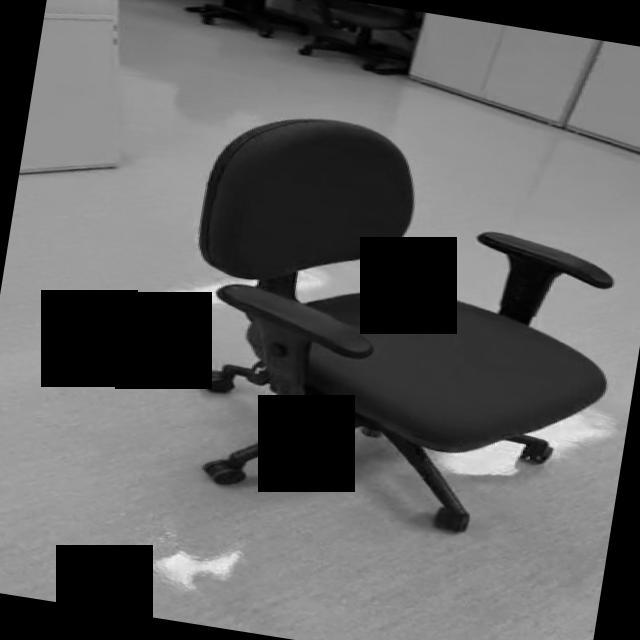chair: (158, 102, 640, 551)
